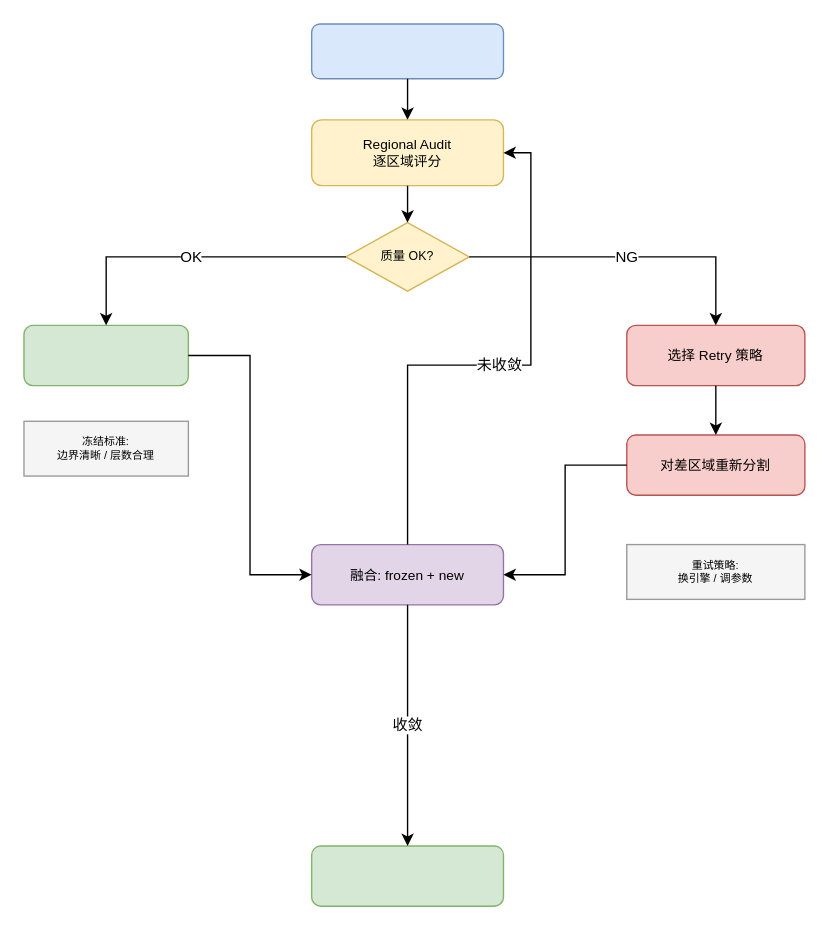
The diagram is 829 pixels wide and 930 high, and some of its shapes have lost their labels. The shapes that lost their labels are listed below. From the top down, each one's centre as x and y in pixels, then its label:
At point 406,51: "自动分割结果".
At point 105,355: "Frozen 区域池".
At point 406,875: "最终 labels".
